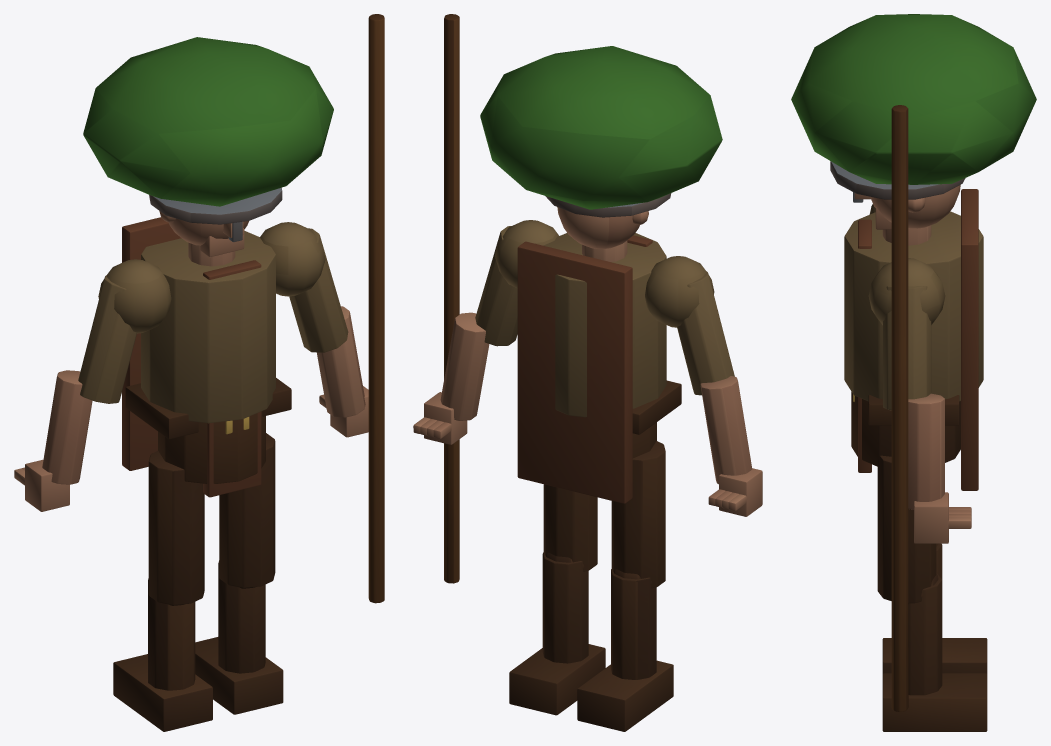
Rendered from unit_dryad.fbx.
The picture shows the model from 3 angles, left to right: view 1: azimuth 30°, elevation 25°; view 2: azimuth 150°, elevation 25°; view 3: azimuth 270°, elevation 25°; orthographic projection. The views are drawn at different scales.
Visible parts, largest first — view 1: unit_dryad; view 2: unit_dryad; view 3: unit_dryad.
Part boxes in pixels (x1,y1,x2,y2): unit_dryad: (14,14,384,731); unit_dryad: (413,14,762,731); unit_dryad: (791,14,1036,731).
Bounding box in the file's own units: 1.14 × 2.14 × 0.704.
